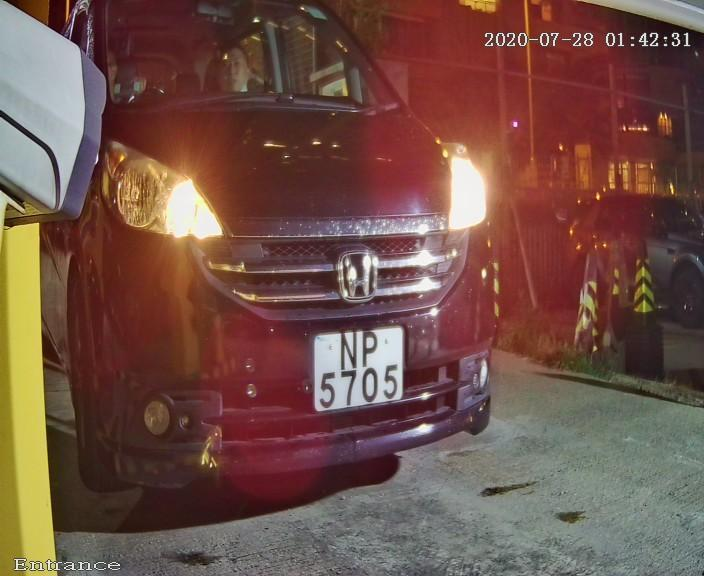privatecar: (19, 8, 563, 525)
